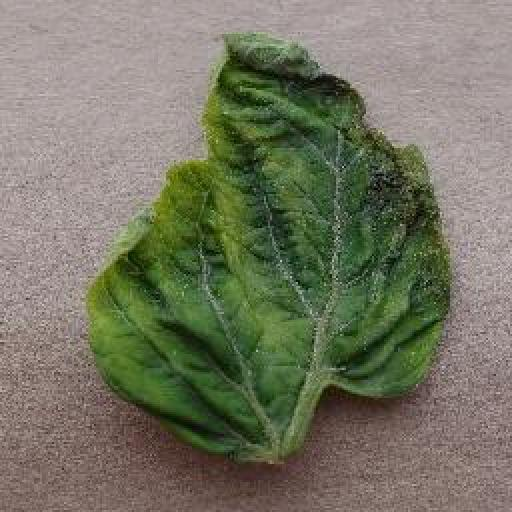disease_tomato: (88, 30, 450, 464)
